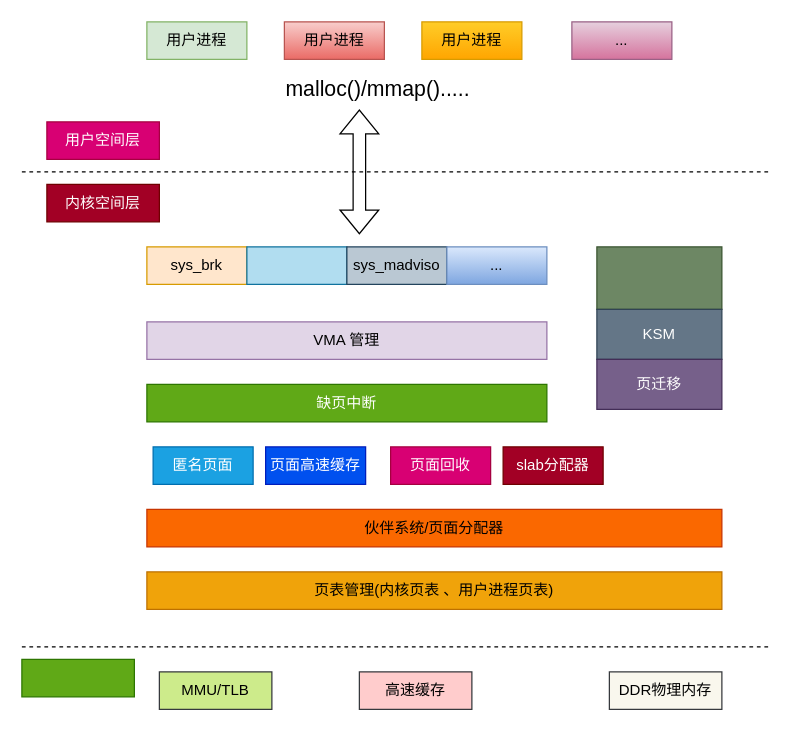
Image size: 795x731. Some labels were removed from this diagram. Each missing label, with the box of its shape:
sys_mmap: (246, 246, 347, 284)
反向映射: (596, 246, 722, 309)
硬件层: (21, 658, 134, 697)
